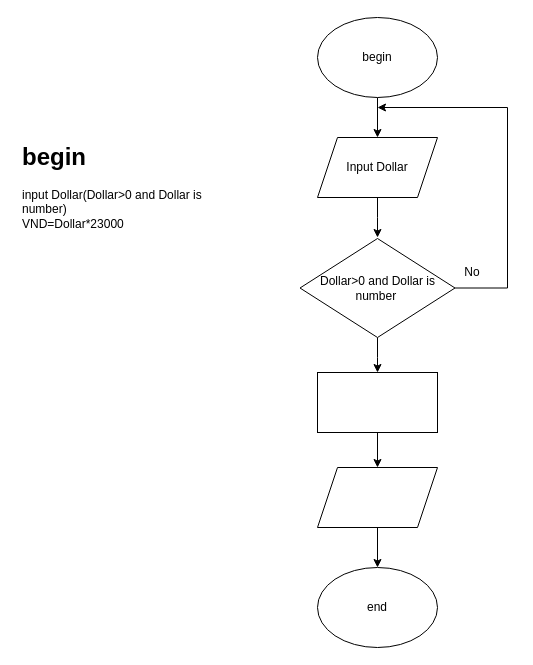
This 533x665 diagram has some shape labels left out. Here are the shapes that lost their labels. From the top down, the centre of each, then its label:
At (x=377, y=402): "VND = Dollar*23000".
At (x=377, y=497): "Display VND".
